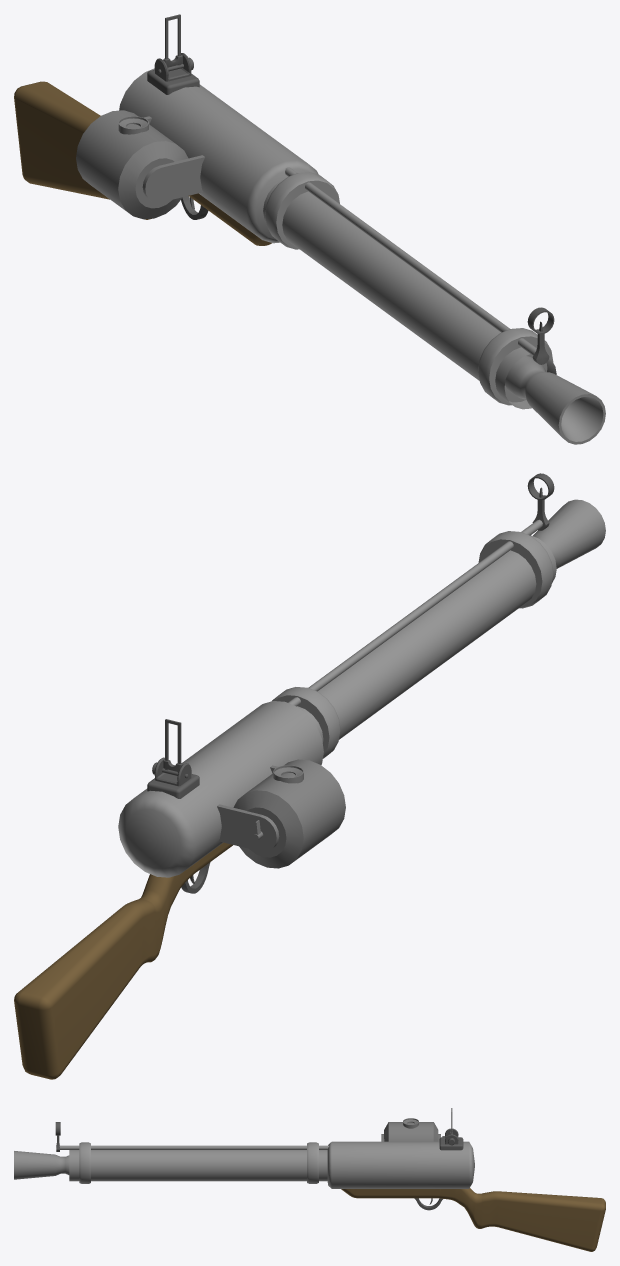
File: Gun_LowPoly.fbx
3 renders of one model, top to bottom at view 1: azimuth 30°, elevation 25°; view 2: azimuth 150°, elevation 25°; view 3: azimuth 270°, elevation 25°, orthographic. The views are drawn at different scales.
Visible parts, largest first — view 1: Gun_LowPoly; view 2: Gun_LowPoly; view 3: Gun_LowPoly.
Part boxes in pixels (left/top/right/bottom): Gun_LowPoly: left=14, top=14, right=605, bottom=444; Gun_LowPoly: left=14, top=473, right=605, bottom=1079; Gun_LowPoly: left=14, top=1108, right=605, bottom=1251.
Size of the model in its own units: 0.1981 by 0.3217 by 1.24.
